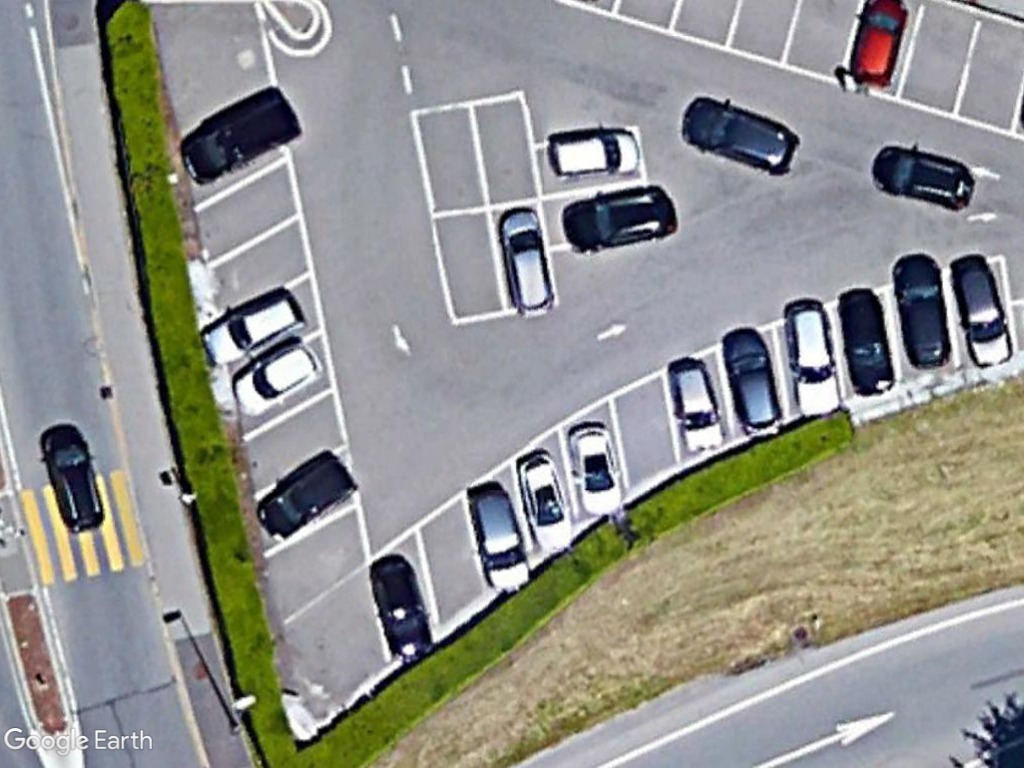car: (676, 92, 800, 178), (200, 287, 311, 369), (252, 457, 357, 542), (778, 297, 843, 419), (495, 206, 561, 320), (468, 483, 535, 595), (37, 430, 106, 533), (892, 254, 953, 368), (953, 261, 1018, 367), (721, 330, 782, 441), (233, 342, 326, 414), (517, 450, 579, 558), (668, 356, 728, 459), (566, 423, 625, 522), (547, 129, 643, 182)
